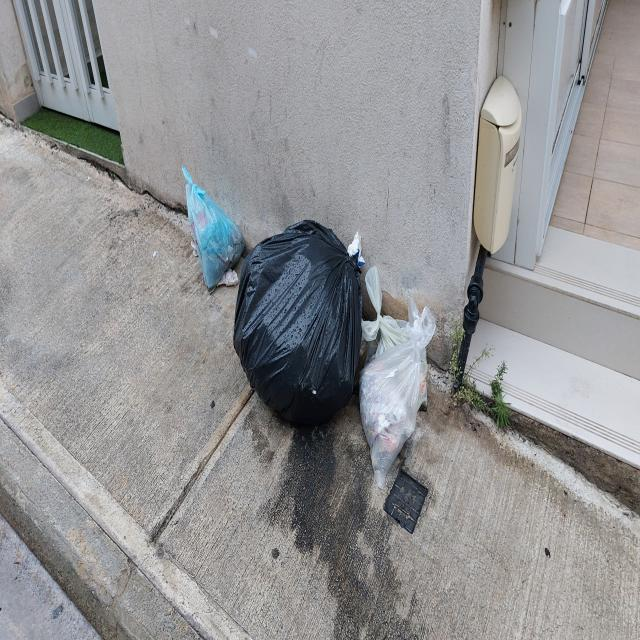Mixed Waste -Black Bag-: (235, 222, 362, 439)
Organic Waste -White Bag-: (361, 324, 431, 485)
Other: (184, 183, 245, 292)
